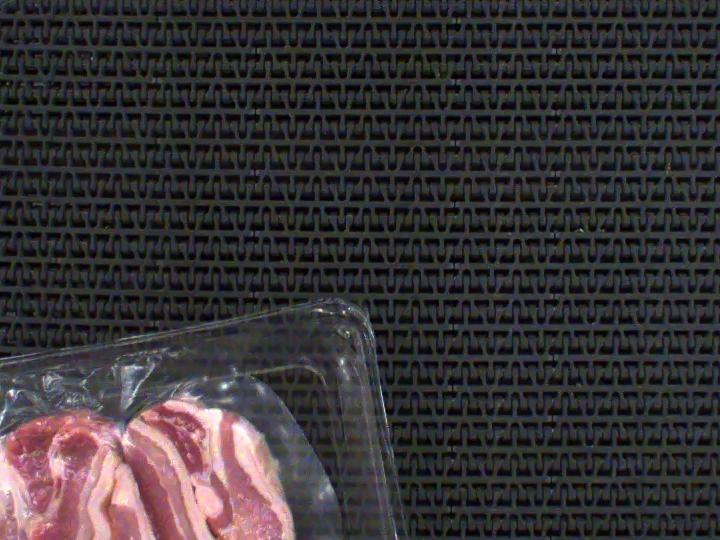unsealed: (0, 342, 397, 540)
